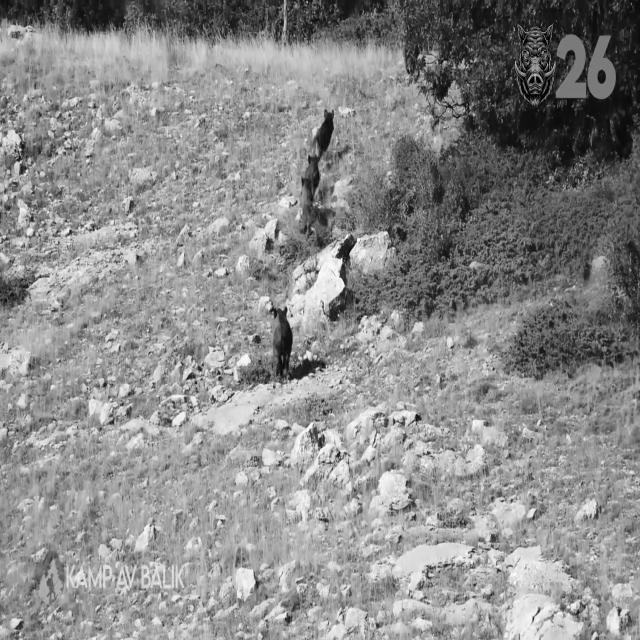boar: (301, 108, 334, 233), (270, 303, 292, 379), (270, 303, 292, 379)
